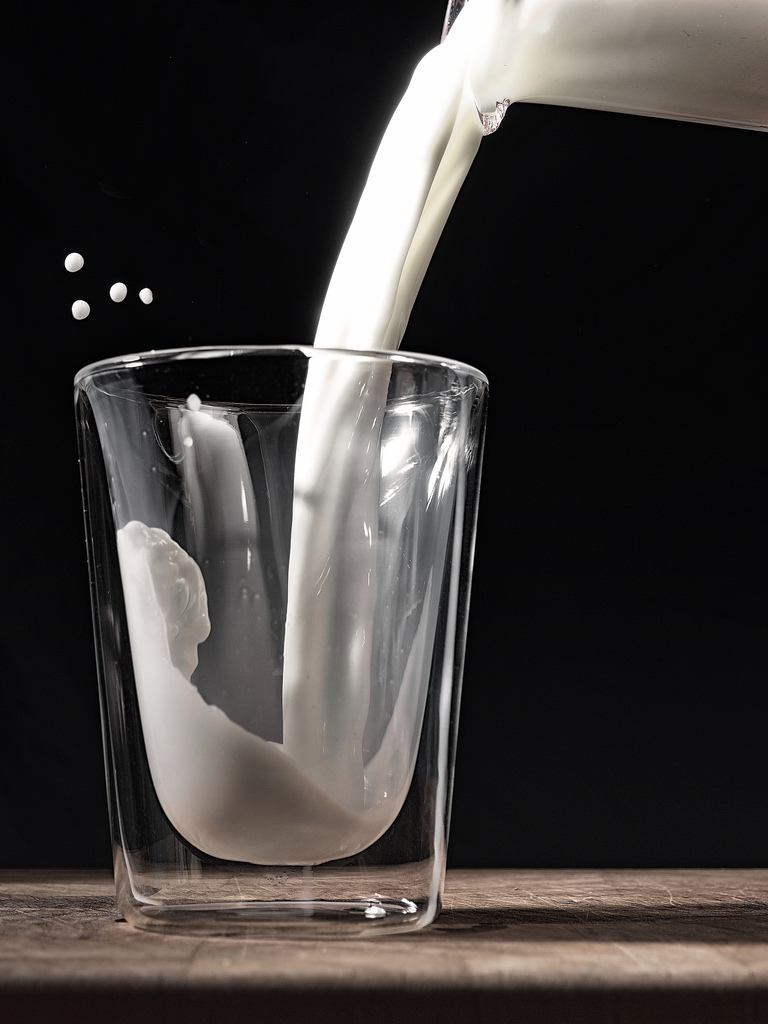glass of milk: (93, 366, 434, 946)
